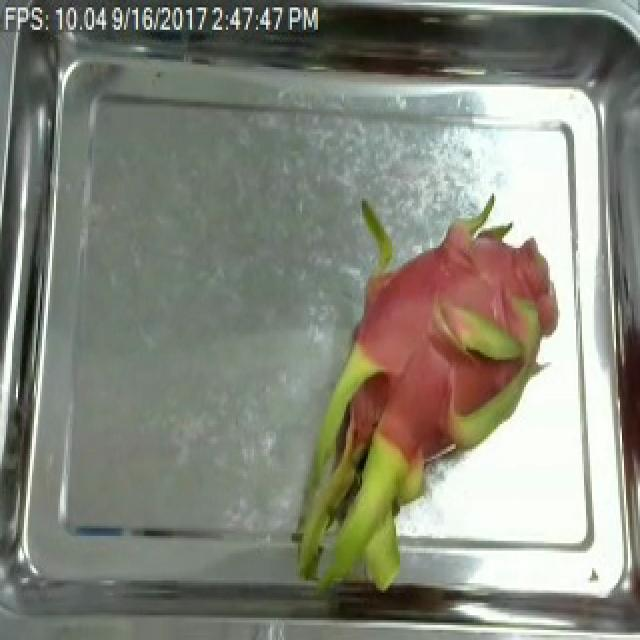fruit: (276, 176, 590, 600)
